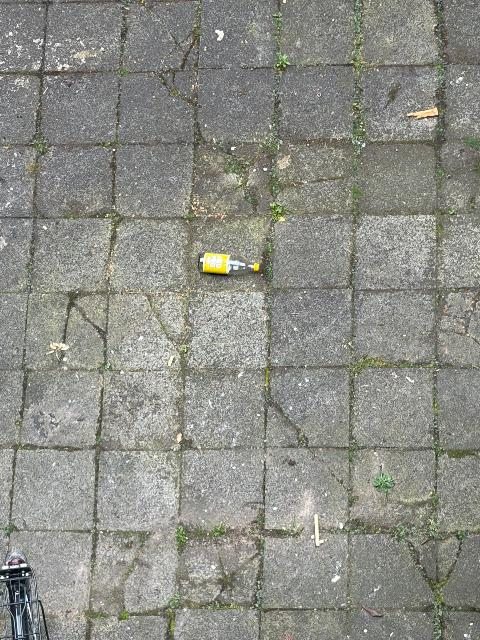glass_bottle: (198, 253, 263, 277)
